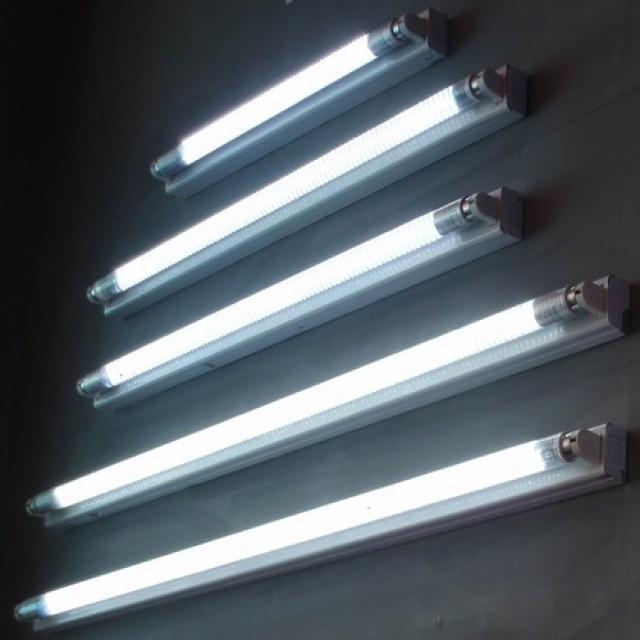tubelight_on: (9, 253, 640, 545), (0, 396, 640, 640), (72, 47, 556, 333), (62, 167, 563, 426), (136, 0, 467, 208)
